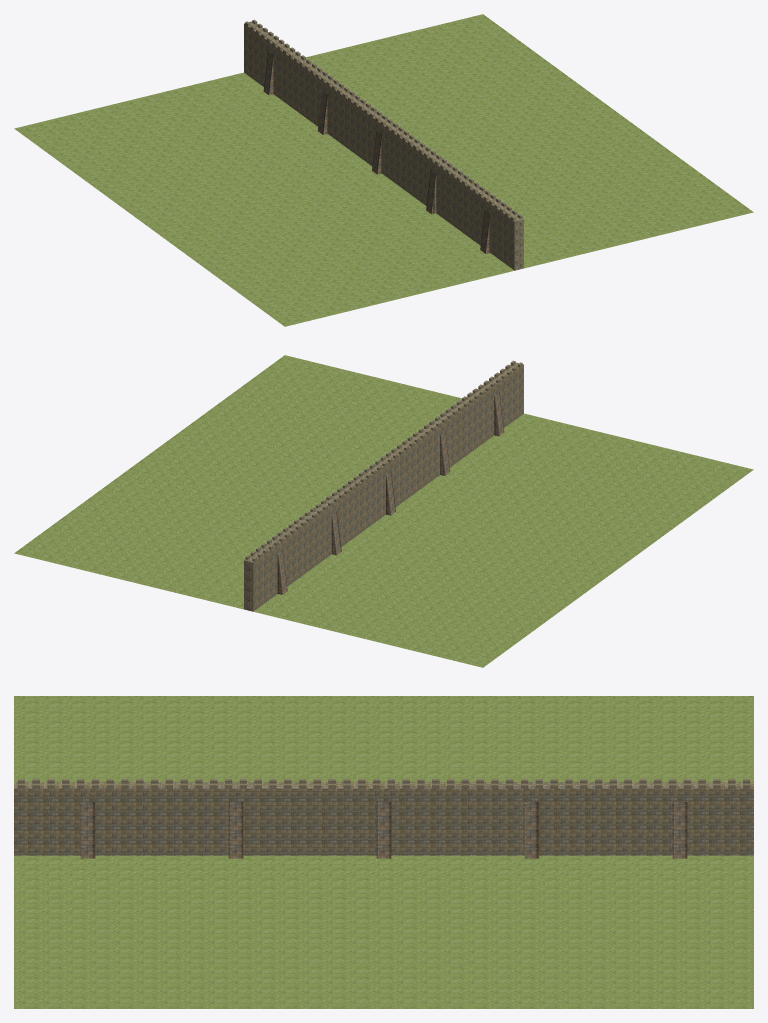
The model's file is map50GBNS.fbx.
3 views of the same model, one above another, from view 1: azimuth 30°, elevation 25°; view 2: azimuth 150°, elevation 25°; view 3: azimuth 270°, elevation 25° (orthographic). The views are drawn at different scales.
Parts seen in each view (by area): view 1: map50GBNS:Layer1, map50GBNS:Layer2, map50GBNS:Layer3, map50GBNS:Layer5; view 2: map50GBNS:Layer1, map50GBNS:Layer2, map50GBNS:Layer3, map50GBNS:Layer5; view 3: map50GBNS:Layer1, map50GBNS:Layer2, map50GBNS:Layer5, map50GBNS:Layer3.
Boxes of the visible parts, <box> form: map50GBNS:Layer1: <box>14,14,753,326</box>; map50GBNS:Layer2: <box>244,21,523,270</box>; map50GBNS:Layer3: <box>245,19,522,220</box>; map50GBNS:Layer5: <box>263,51,490,253</box>; map50GBNS:Layer1: <box>14,355,753,667</box>; map50GBNS:Layer2: <box>244,362,523,611</box>; map50GBNS:Layer3: <box>245,360,522,561</box>; map50GBNS:Layer5: <box>277,392,504,594</box>; map50GBNS:Layer1: <box>14,696,753,1008</box>; map50GBNS:Layer2: <box>14,782,753,855</box>; map50GBNS:Layer5: <box>80,802,687,858</box>; map50GBNS:Layer3: <box>17,779,750,788</box>.
Bounding box in the file's own units: 1 × 0.105 × 1.
3 materials, 3 textured.
